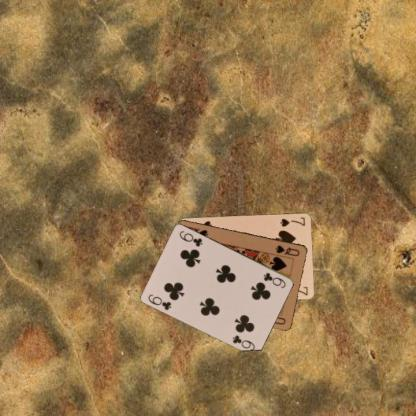6c: (261, 270, 287, 290), (146, 292, 172, 312)
7s: (277, 214, 306, 228)
Qs: (272, 242, 302, 257)
